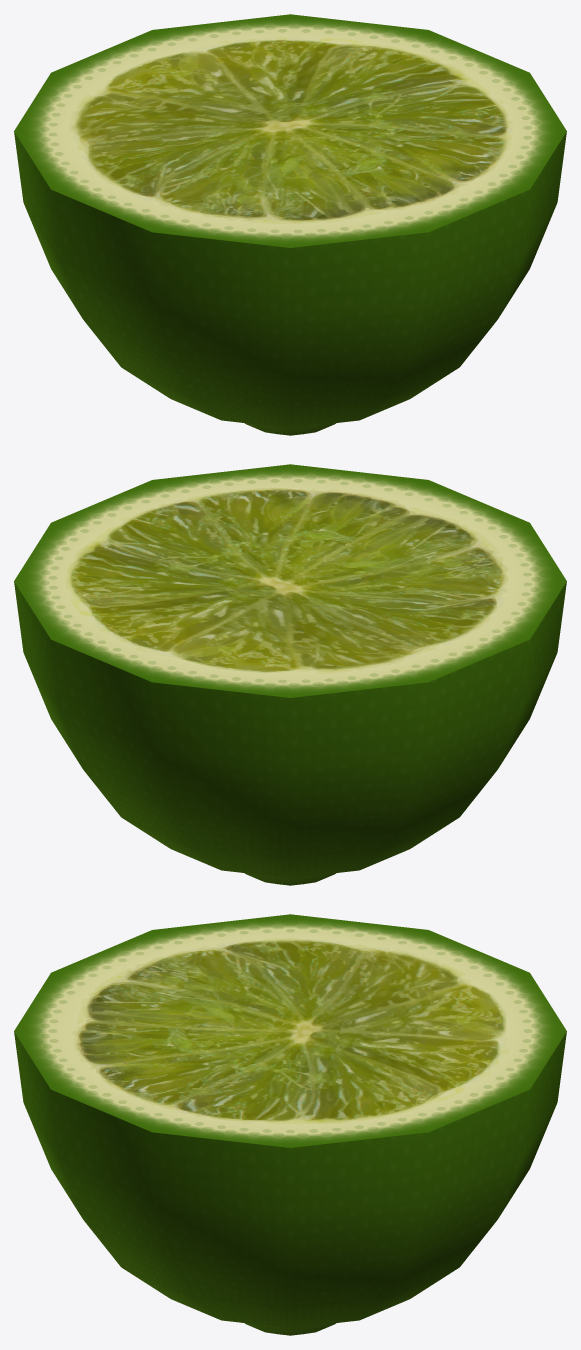
File: Lime_Half_Bottom.fbx
3 renders of one model, top to bottom at view 1: azimuth 30°, elevation 25°; view 2: azimuth 150°, elevation 25°; view 3: azimuth 270°, elevation 25°, orthographic.
Parts seen in each view (by area): view 1: Lime_Half_Bottom; view 2: Lime_Half_Bottom; view 3: Lime_Half_Bottom.
Part boxes in pixels (bbox=[...]): Lime_Half_Bottom: bbox=[14, 14, 566, 435]; Lime_Half_Bottom: bbox=[14, 464, 566, 885]; Lime_Half_Bottom: bbox=[14, 914, 566, 1335].
Size of the model in its own units: 1.57 by 0.9343 by 1.57.
